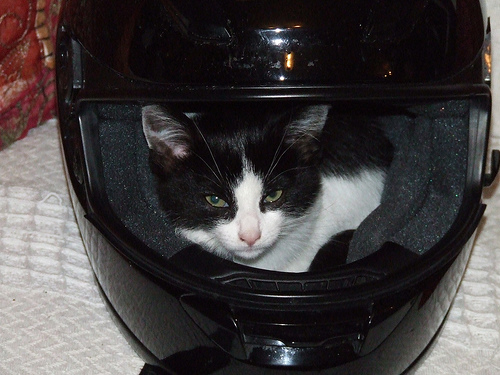helmet: (52, 9, 483, 364)
